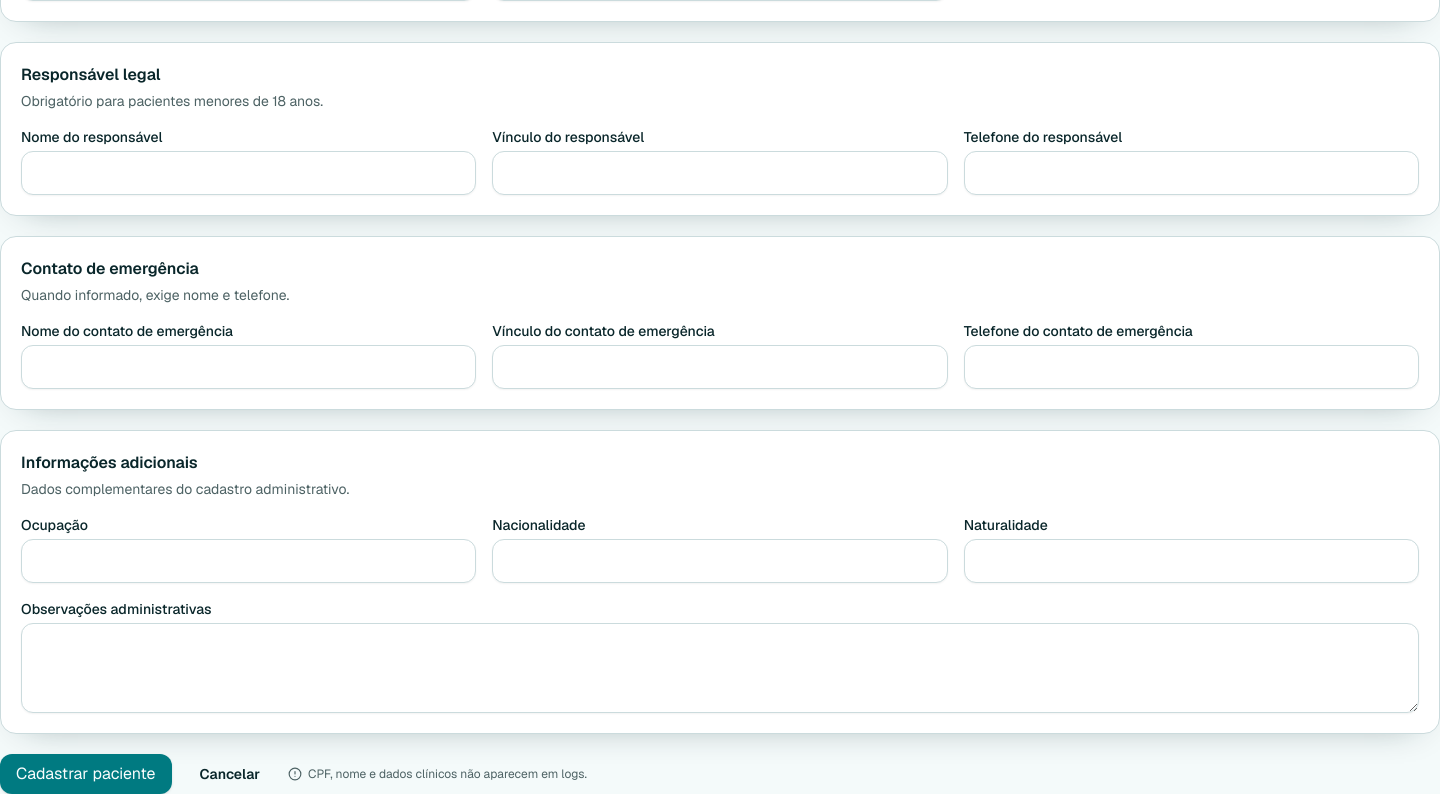
PatientForm › blocks creation without the required fields and focuses the first invalid one
(page scrolled)
Step 1. Click the button "Cadastrar paciente" → (86, 774), box [0, 754, 172, 793]
(page scrolled)
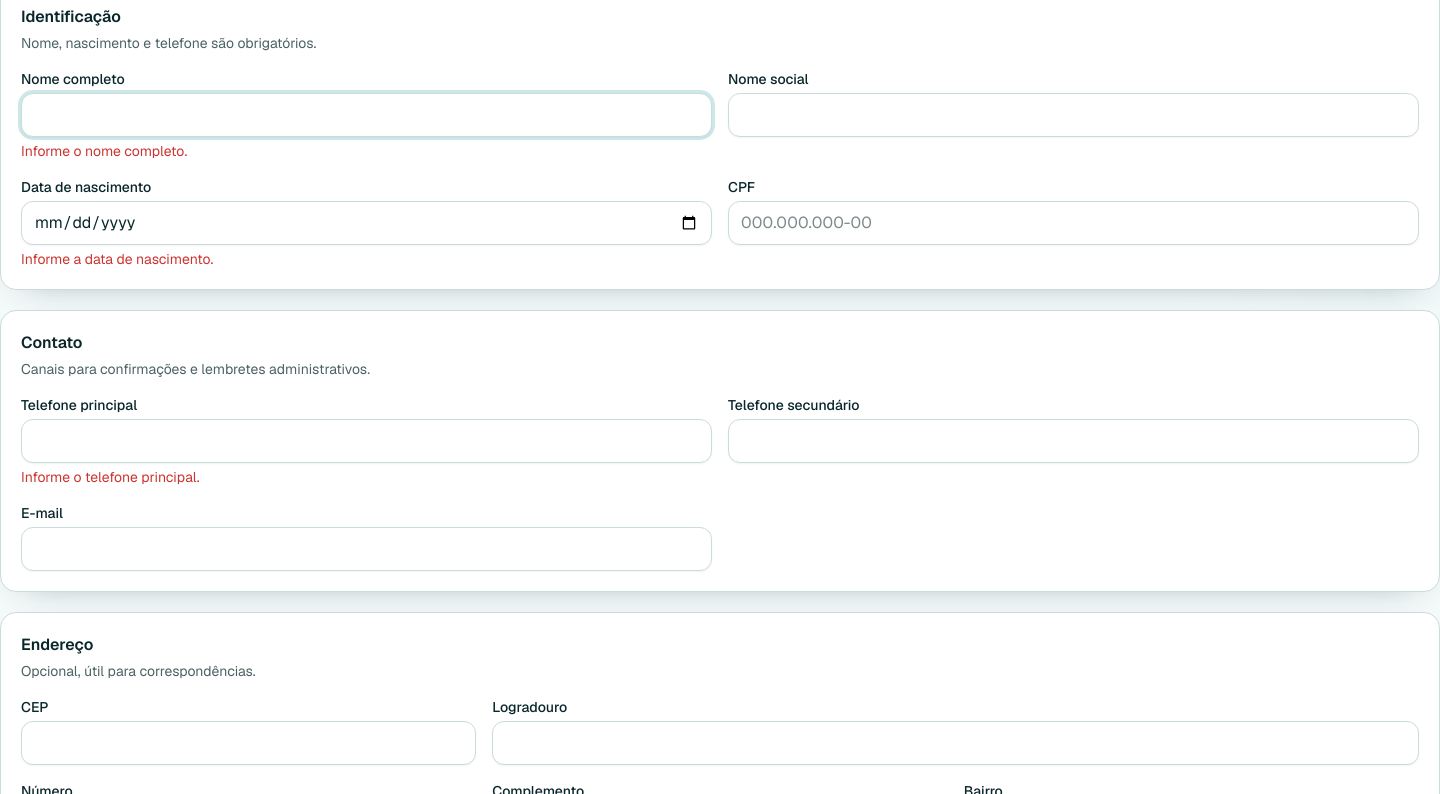
Result: the text "Informe o nome completo." is shown at [21, 142, 187, 160]
Result: the text "Informe a data de nascimento." is shown at [21, 250, 213, 268]
Result: the text "Informe o telefone principal." is shown at [21, 468, 200, 486]
